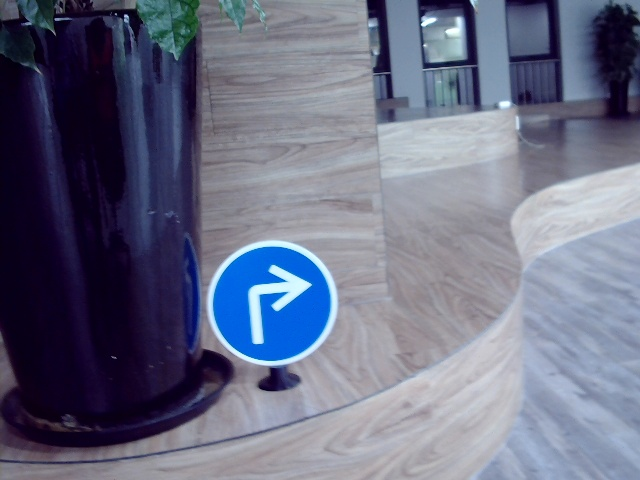turn_right: (236, 265, 315, 344)
